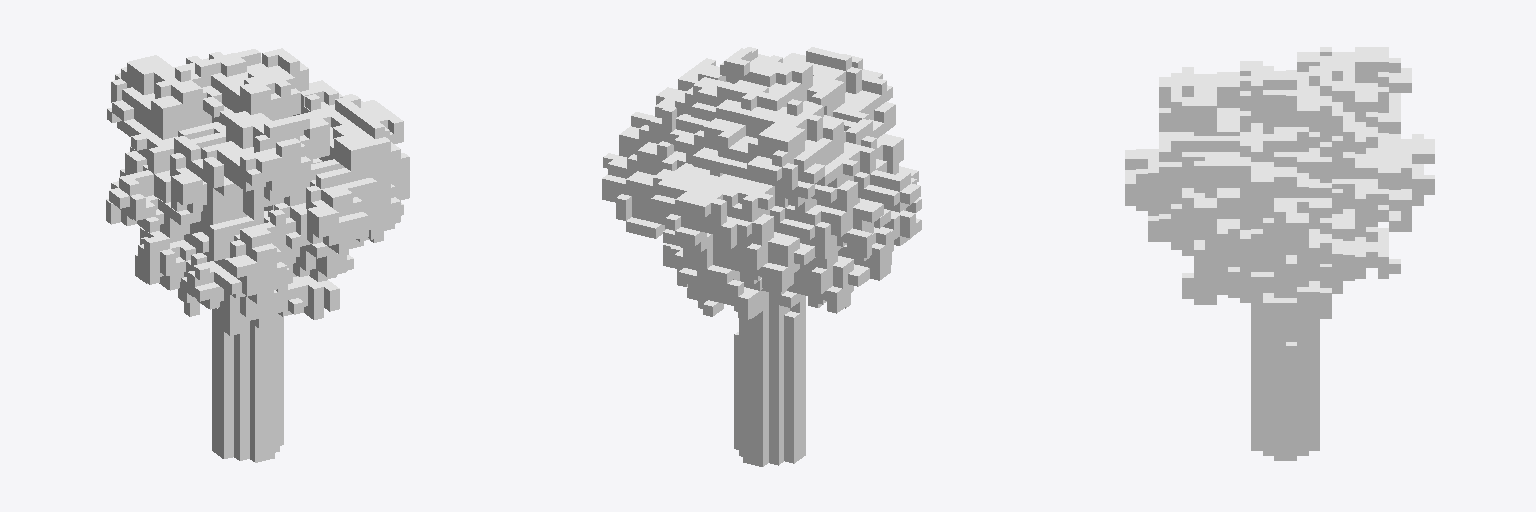
File: Tree.vox.obj
The picture shows the model from 3 angles: view 1: azimuth 30°, elevation 25°; view 2: azimuth 150°, elevation 25°; view 3: azimuth 270°, elevation 25°; orthographic projection.
Visible parts, largest first — view 1: object 1; view 2: object 1; view 3: object 1.
Boxes of the visible parts, x1,y1,x2,y2 form: object 1: [106, 48, 409, 462]; object 1: [602, 47, 921, 466]; object 1: [1125, 47, 1434, 460].
Bounding box in the file's own units: 2.9 × 3.7 × 2.7.